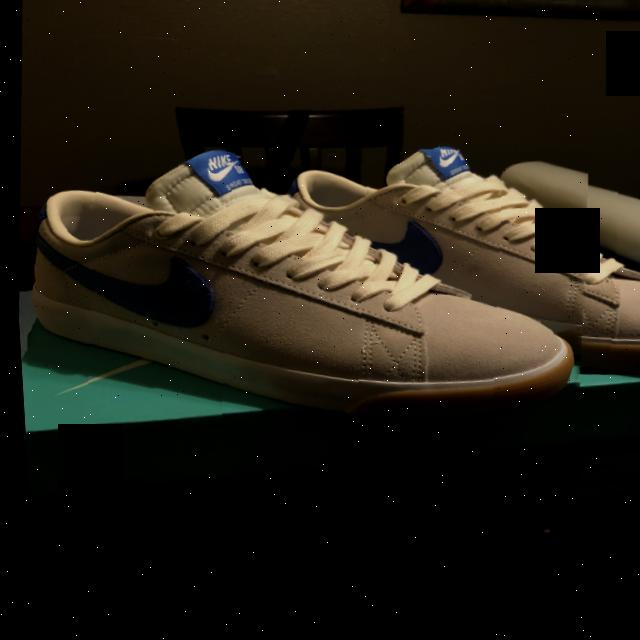shoe: (7, 119, 600, 472), (263, 118, 640, 400)
